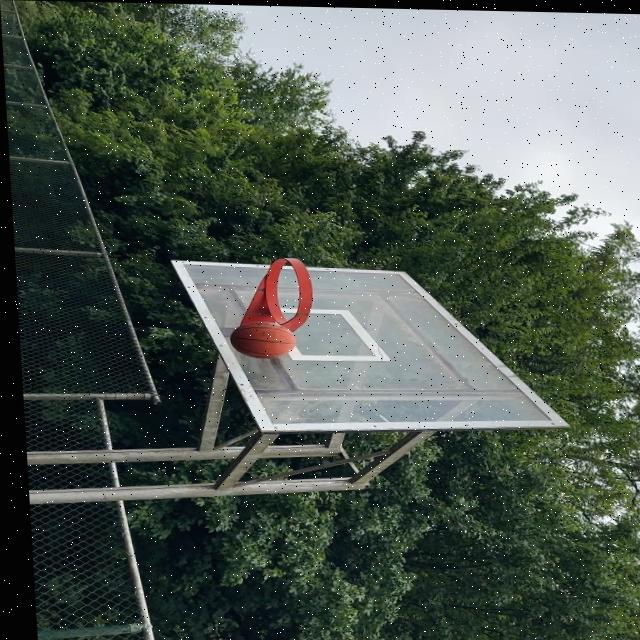rebound_hit: (229, 320, 298, 362)
